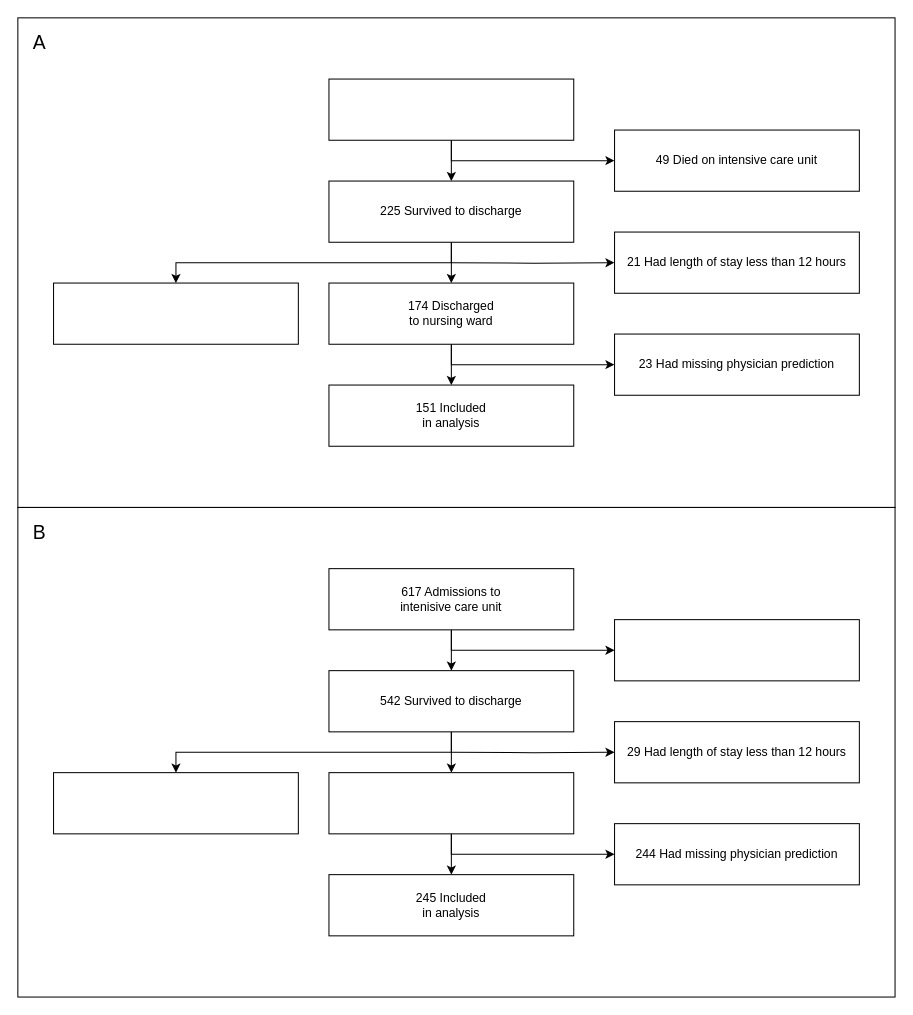
This 913x1015 diagram has some shape labels left out. Here are the shapes that lost their labels. From the top down, the box of each, then its label:
(328, 78, 574, 140): 274 Admissions to intensive care unit
(53, 282, 298, 344): 30 Discharged to High Dependency unit
(614, 619, 859, 681): 75 Died on intensive care unit
(53, 772, 298, 834): 24 Discharged to High Dependency unit
(328, 772, 574, 834): 489 Discharged to nursing ward
